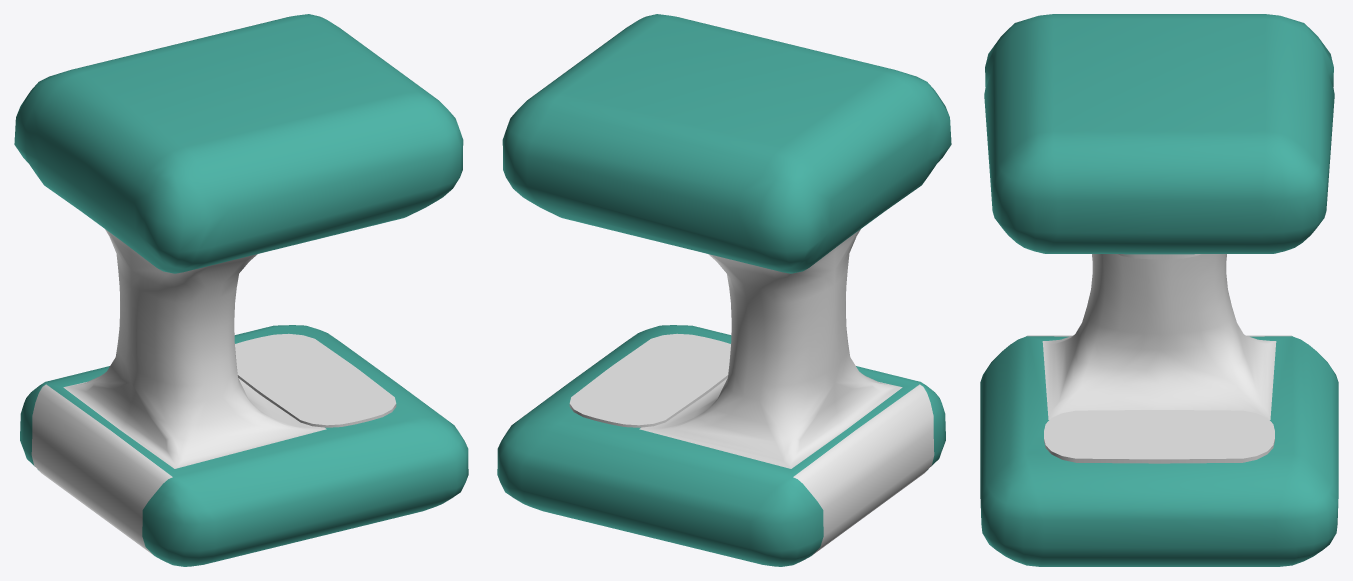
Rendered from mycoffeemachine.fbx.
The picture shows the model from 3 angles, left to right: view 1: azimuth 30°, elevation 25°; view 2: azimuth 150°, elevation 25°; view 3: azimuth 270°, elevation 25°; orthographic projection. The views are drawn at different scales.
Visible parts, largest first — view 1: coffeemachine, coffeetray; view 2: coffeemachine, coffeetray; view 3: coffeemachine, coffeetray.
Part boxes in pixels (box(x1,y1,x2,y2)): coffeemachine: box(14, 14, 468, 566); coffeetray: box(235, 333, 396, 427); coffeemachine: box(497, 14, 951, 566); coffeetray: box(569, 333, 730, 427); coffeemachine: box(980, 14, 1338, 566); coffeetray: box(1044, 410, 1274, 463).
Size of the model in its own units: 155 by 191 by 145.
